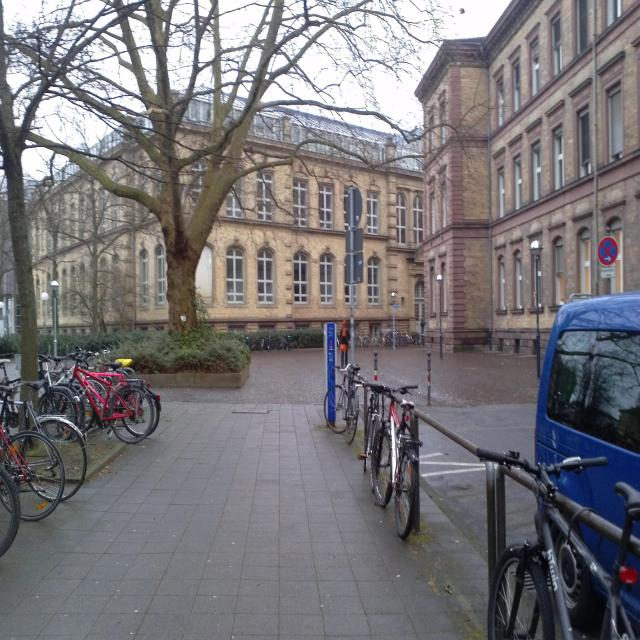Good: (231, 404, 271, 418)
